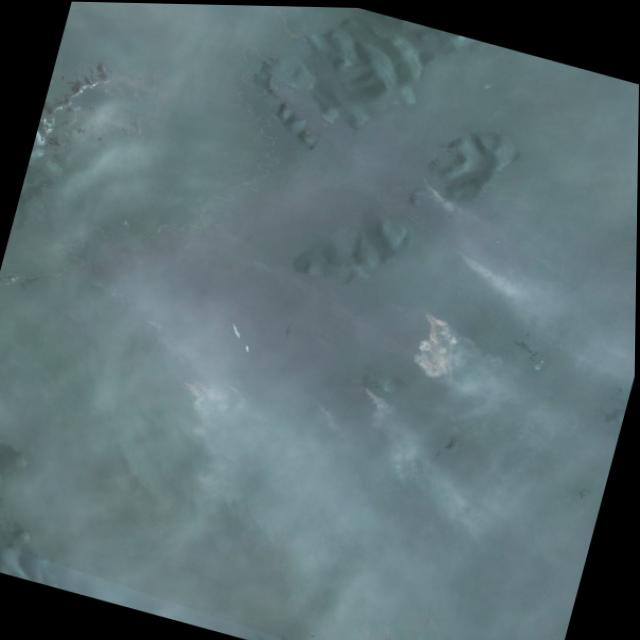fire: (171, 362, 244, 409), (400, 168, 466, 214), (345, 373, 403, 406), (442, 241, 485, 271)
